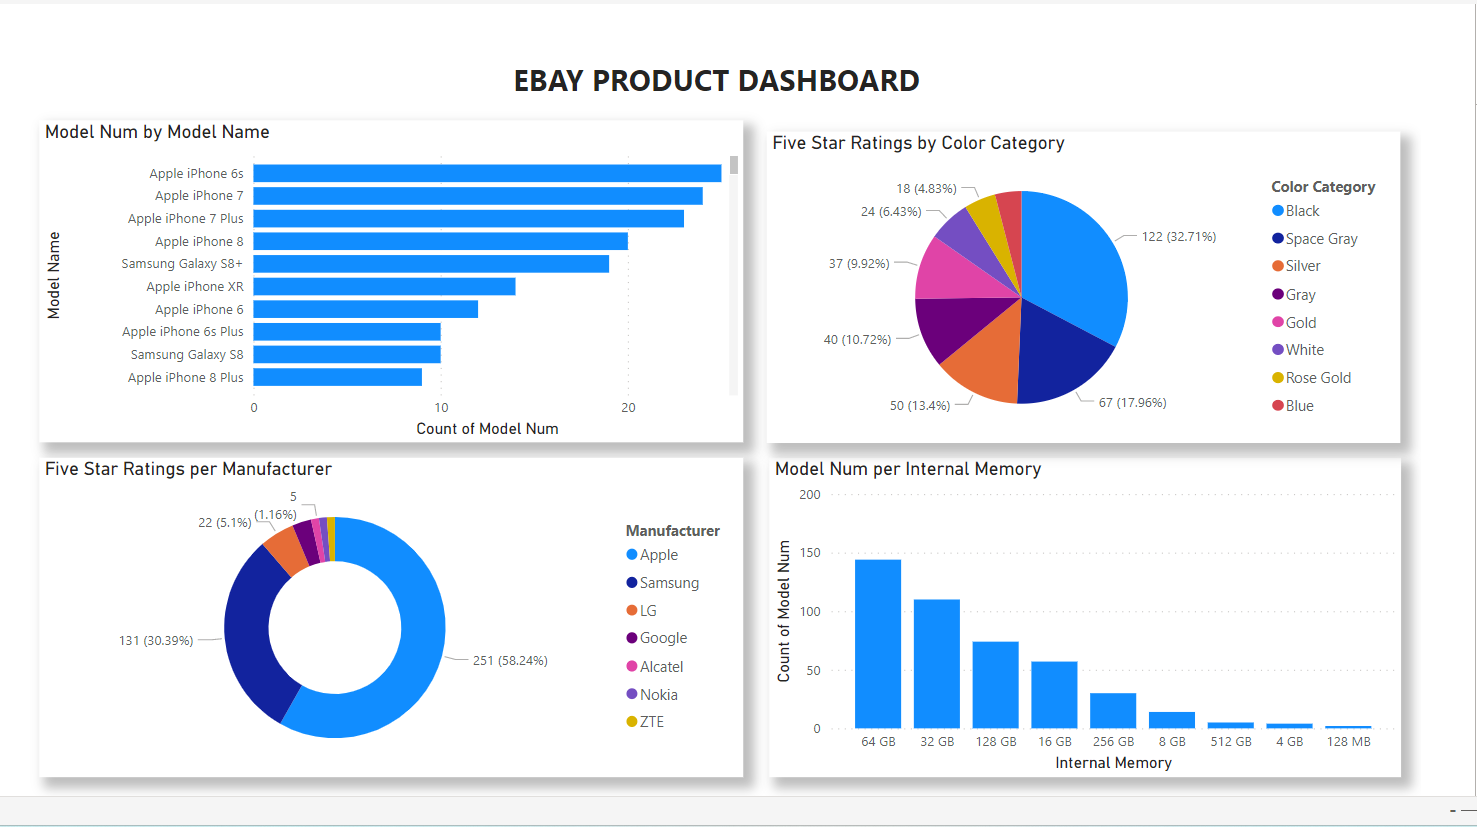

The dashboard page shown, as its layout file describes it:
{"tool":"powerbi","page":{"name":"Page 1","canvas":[1280,720],"ordinal":0},"visuals":[{"type":"barChart","title":" Model Num by Model Name","fields":{"Category":["marketing_sample_for_ebay_com-ebay_com_product_details__20200901_20201031__30k_d.Model Name"],"Y":["CountNonNull(marketing_sample_for_ebay_com-ebay_com_product_details__20200901_20201031__30k_d.Model Num)"]},"box":[24.3,105.7,640,292.9],"z":0},{"type":"clusteredColumnChart","title":" Model Num per Internal Memory","fields":{"Category":["marketing_sample_for_ebay_com-ebay_com_product_details__20200901_20201031__30k_d.Internal Memory"],"Y":["CountNonNull(marketing_sample_for_ebay_com-ebay_com_product_details__20200901_20201031__30k_d.Model Num)"]},"box":[687.1,412.9,574.3,290],"z":1},{"type":"donutChart","title":" Five Star Ratings per Manufacturer","fields":{"Y":["CountNonNull(marketing_sample_for_ebay_com-ebay_com_product_details__20200901_20201031__30k_d.Five Star)"],"Category":["marketing_sample_for_ebay_com-ebay_com_product_details__20200901_20201031__30k_d.Manufacturer"]},"box":[24.3,412.9,640,290],"z":2},{"type":"pieChart","title":"Five Star Ratings by Color Category","fields":{"Y":["CountNonNull(marketing_sample_for_ebay_com-ebay_com_product_details__20200901_20201031__30k_d.Five Star)"],"Category":["marketing_sample_for_ebay_com-ebay_com_product_details__20200901_20201031__30k_d.Color Category"]},"box":[685.7,115.7,575.7,282.9],"z":3},{"type":"textbox","box":[270,45.7,738.6,48.6],"z":4}]}

Visuals, with their boxes in screenshot pixels (x1, y1, x2, y2), scaled from the page's 1280x720 canvas onto the 1477x827 screenshot:
" Model Num by Model Name" barChart: rect(28, 121, 767, 458)
" Model Num per Internal Memory" clusteredColumnChart: rect(793, 474, 1456, 807)
" Five Star Ratings per Manufacturer" donutChart: rect(28, 474, 767, 807)
"Five Star Ratings by Color Category" pieChart: rect(791, 133, 1456, 458)
textbox: rect(312, 52, 1164, 108)
